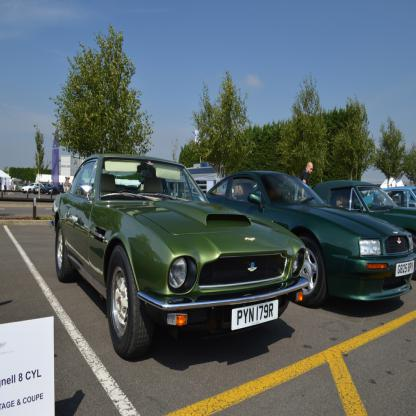Car: (21, 153, 416, 359)
